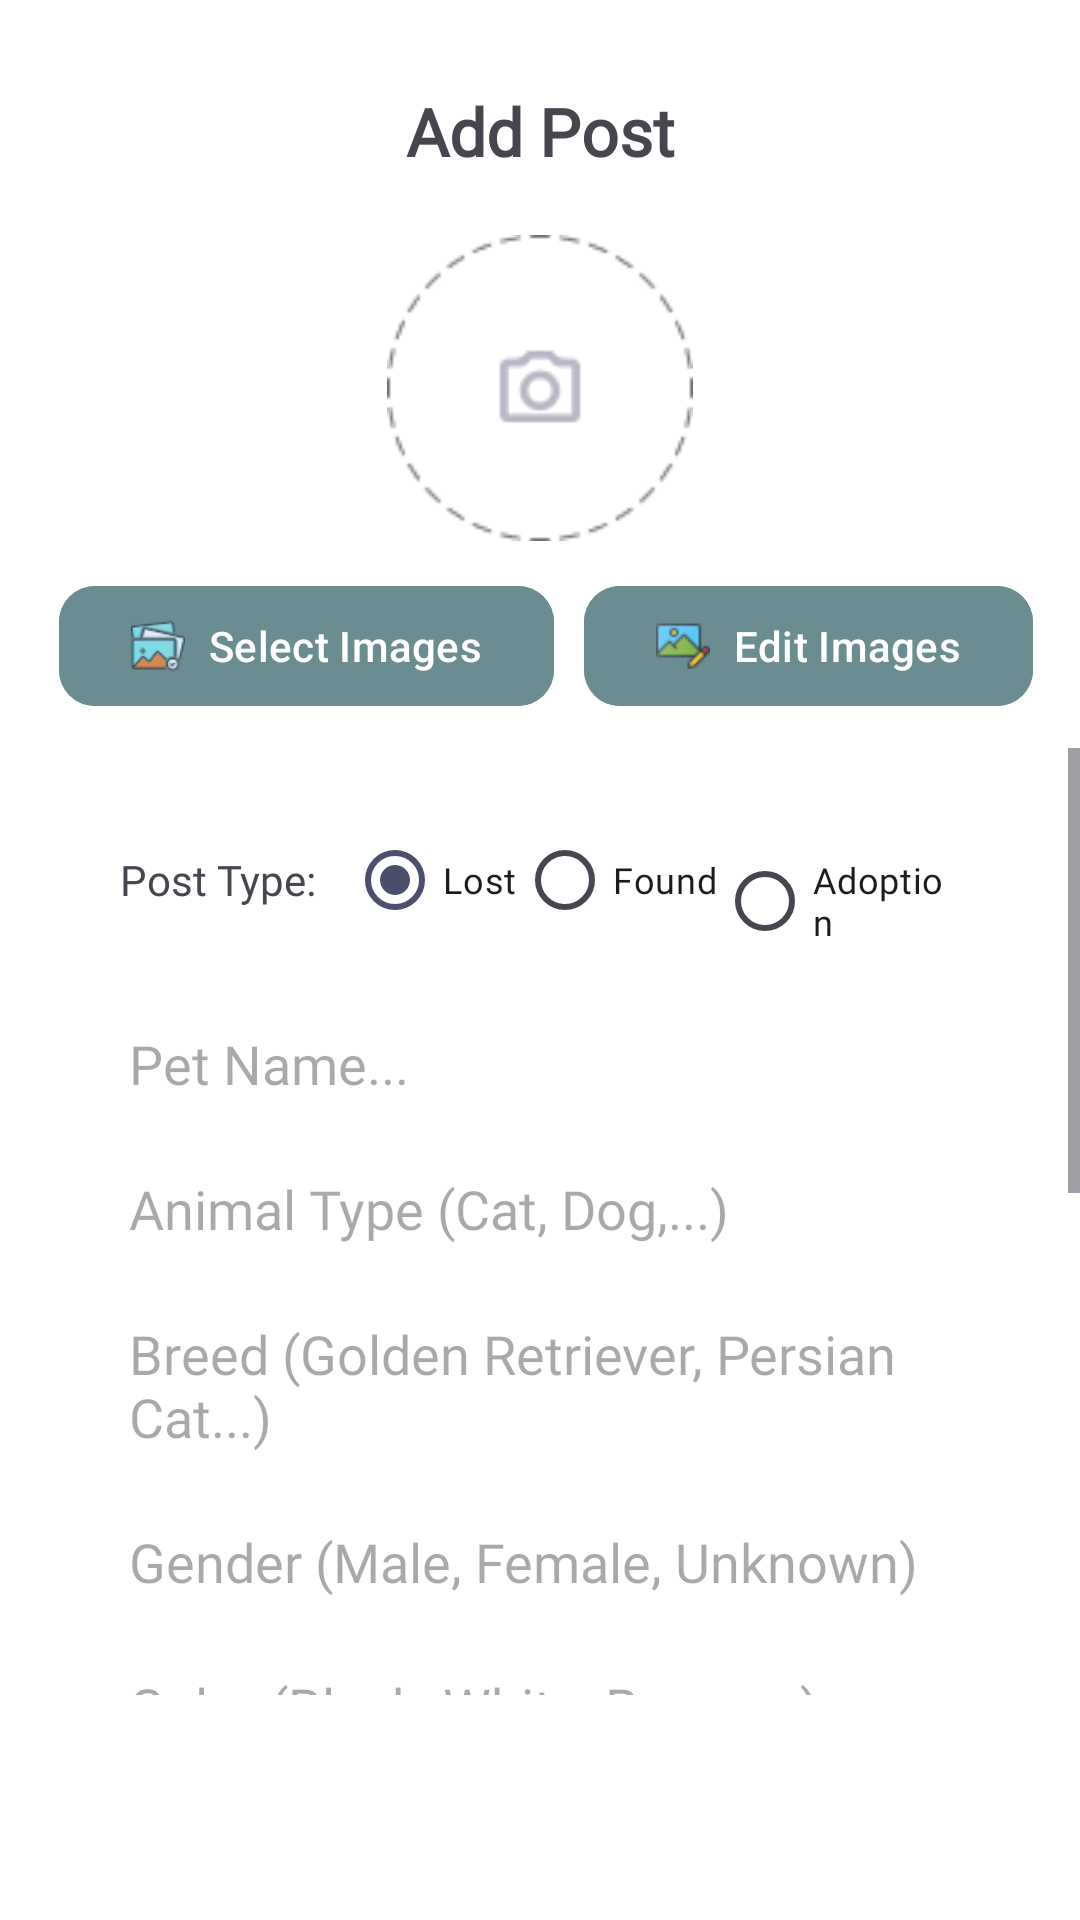

Icon bounding boxes for this 1080px x 1920px phone screenshot, format [x1=x1, y1=y1, x2=x2, y2=y2]:
addphotocircle: [x1=387, y1=235, x2=693, y2=541]
